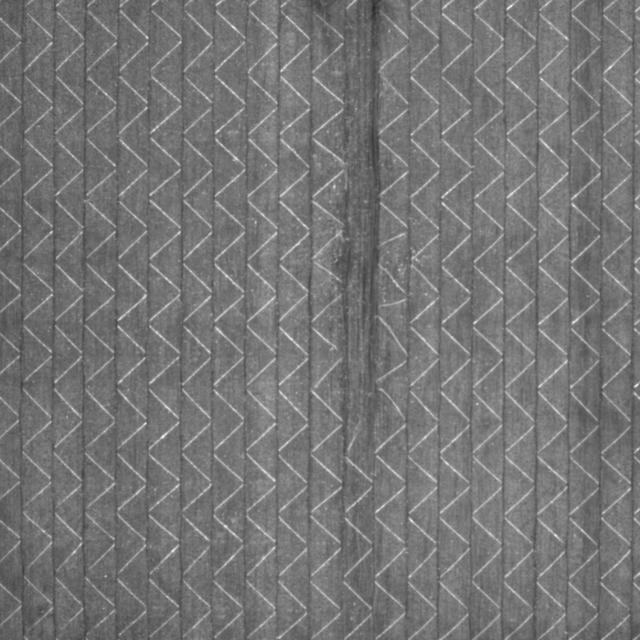carbon-fibre-defect: (338, 0, 388, 437)
